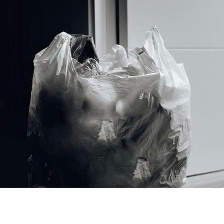plastic_bag: (13, 17, 197, 190)
